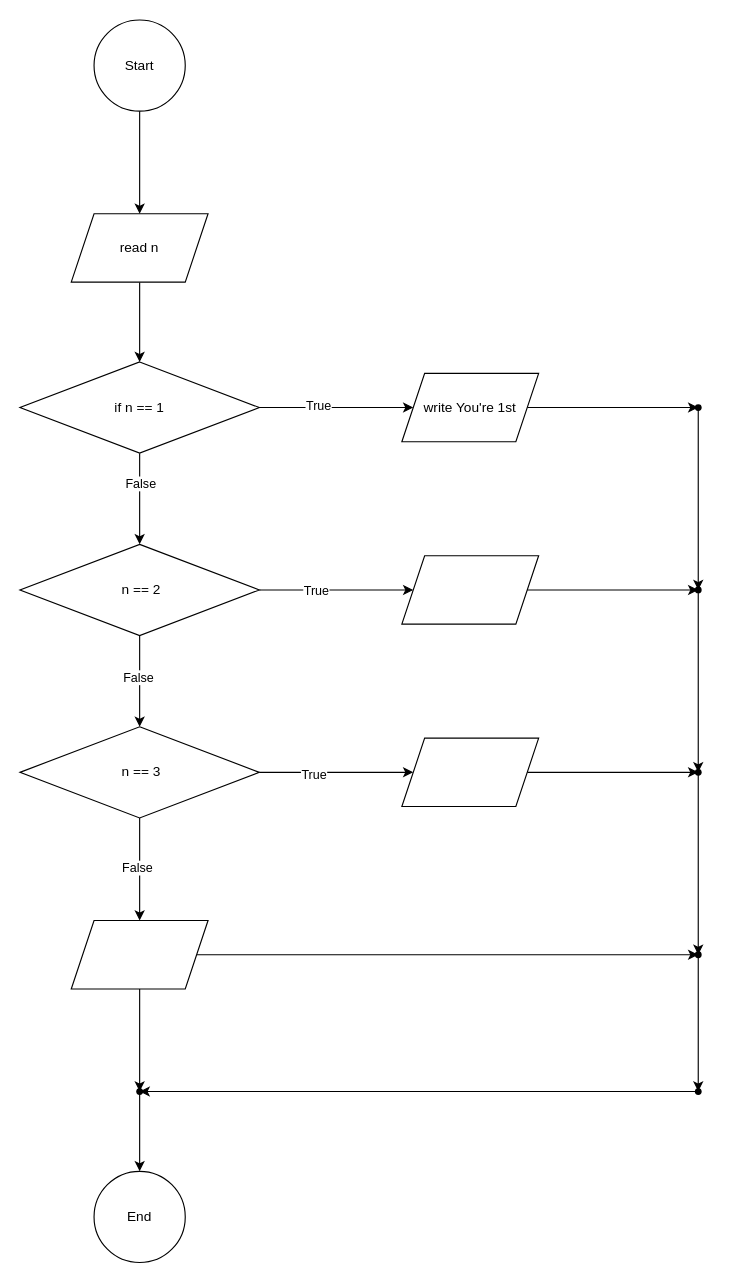
Image size: 730x1283. Some labels were removed from this diagram. The centre of each missing label's shape, as x and y in pixels:
write n + th: (x=139, y=954)
write You're 2nd: (x=470, y=589)
write You're 3rd: (x=470, y=772)
